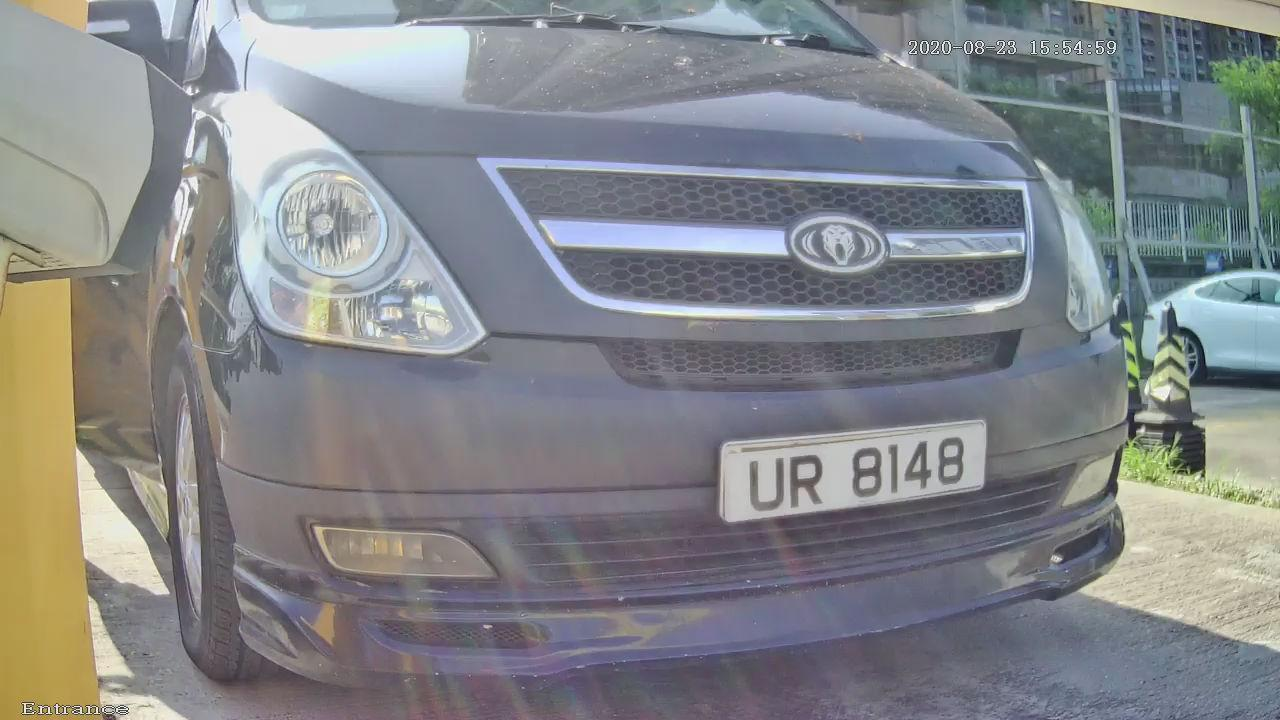License Plate: (703, 412, 1000, 528)
